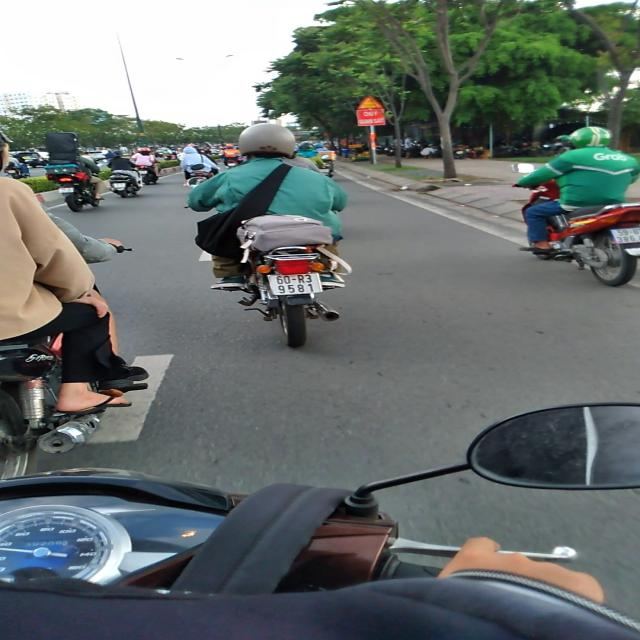Nguy hiem: (356, 94, 384, 110)
